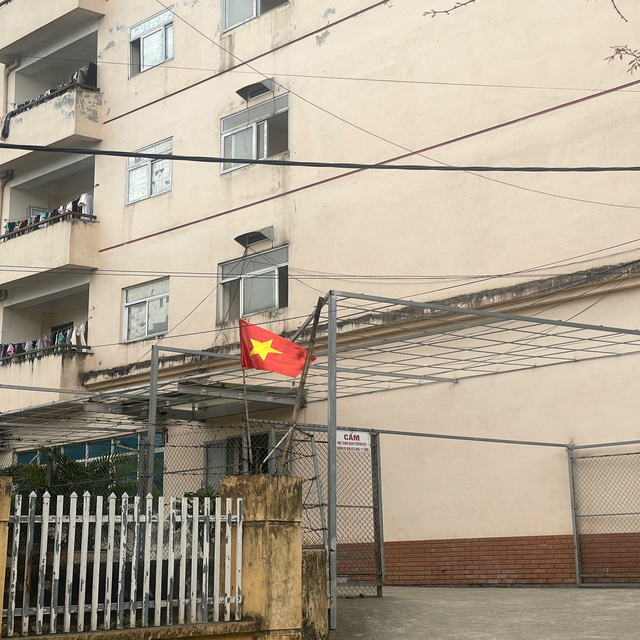laco: (232, 313, 313, 385)
